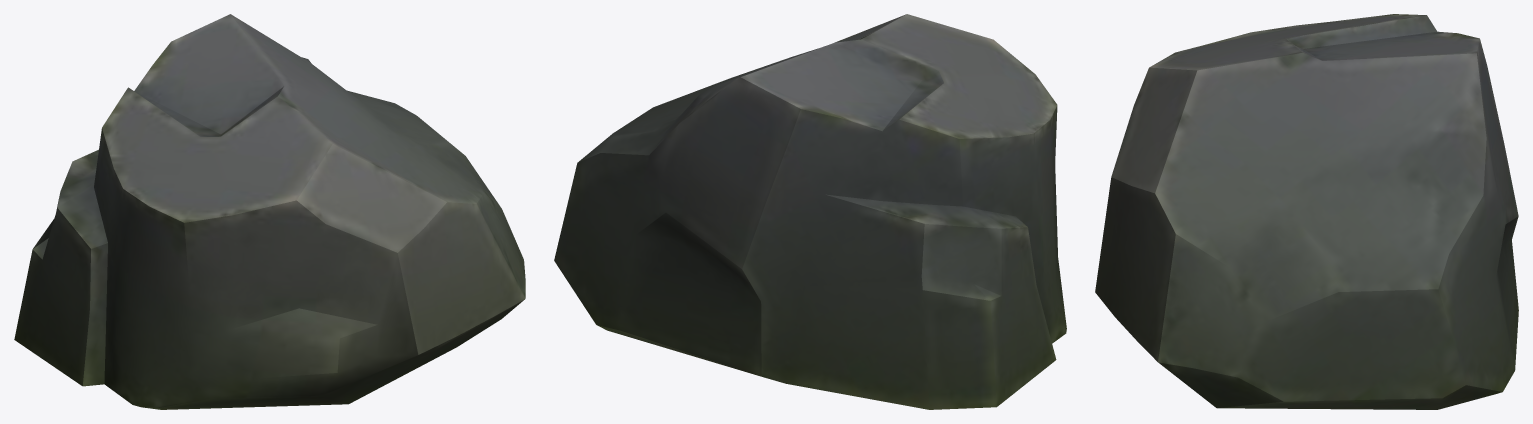
The model's file is Rock_Medium_2.gltf.
3 renders of one model, left to right at view 1: azimuth 30°, elevation 25°; view 2: azimuth 150°, elevation 25°; view 3: azimuth 270°, elevation 25°, orthographic. The views are drawn at different scales.
Parts seen in each view (by area): view 1: Rock_Medium_2; view 2: Rock_Medium_2; view 3: Rock_Medium_2.
Part boxes in pixels (<box>): Rock_Medium_2: <box>14,14,525,409</box>; Rock_Medium_2: <box>554,14,1066,409</box>; Rock_Medium_2: <box>1095,14,1518,409</box>.
Bounding box in the file's own units: 3.05 × 1.9 × 2.48.
1 material, 1 textured.
